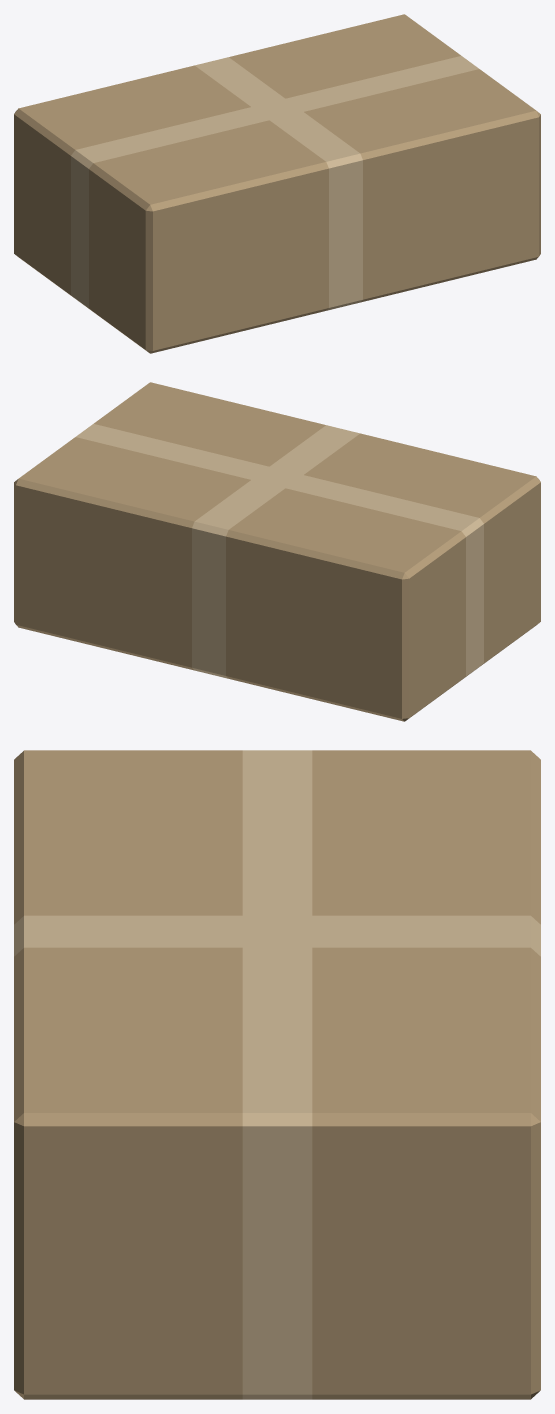
File: Scatolone_1.fbx
3 views of the same model, one above another, from view 1: azimuth 30°, elevation 25°; view 2: azimuth 150°, elevation 25°; view 3: azimuth 270°, elevation 25° (orthographic). The views are drawn at different scales.
Visible parts, largest first — view 1: Scatolone_1; view 2: Scatolone_1; view 3: Scatolone_1.
Part boxes in pixels (x1,y1,x2,y2): Scatolone_1: [14, 14, 540, 353]; Scatolone_1: [14, 382, 540, 721]; Scatolone_1: [14, 750, 540, 1399].
Bounding box in the file's own units: 1.67 × 0.6 × 1.
